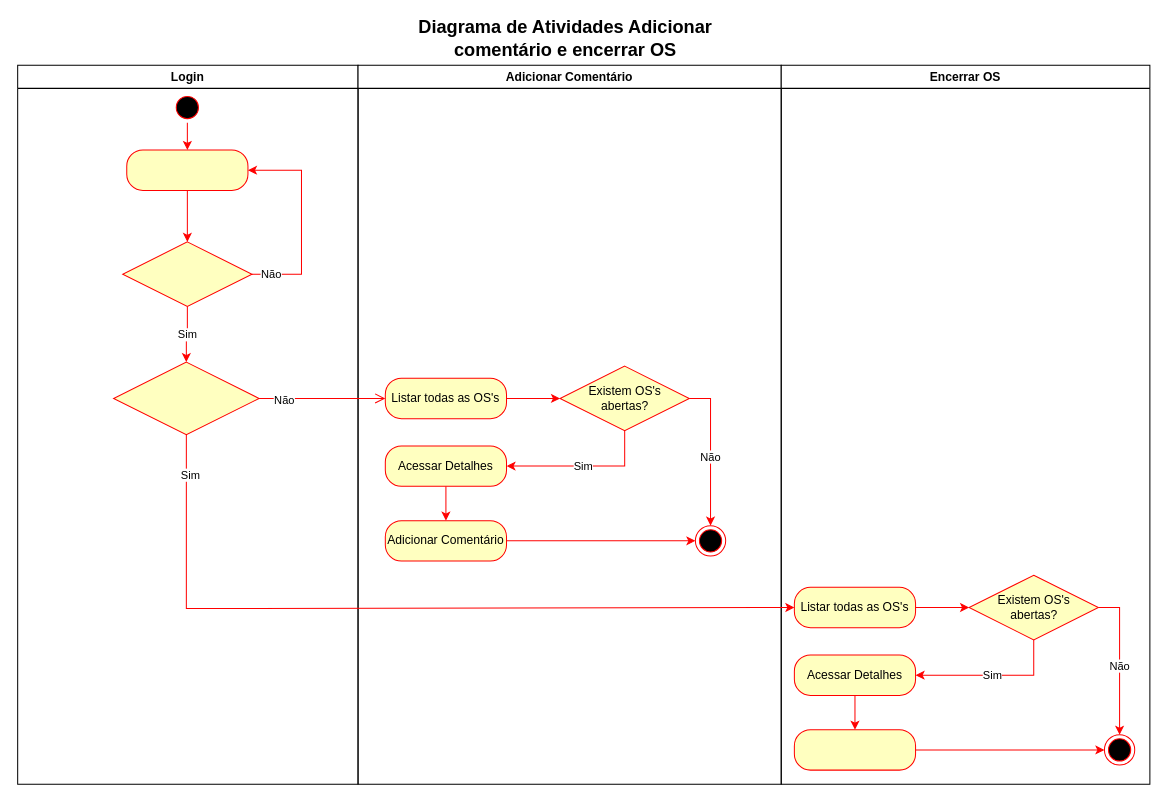
Some shapes in this 1168 by 802 pixel diagram are drawn without their labels. The shapes that lost their labels are listed below. From the top down, each one's centre as x and y in pixels, then its label:
pixel 187 169: Acessar Sistema
pixel 187 274: Matrícula e PIN corretos?
pixel 186 398: Colaborador é da Manutenção?
pixel 854 749: Concluir OS
